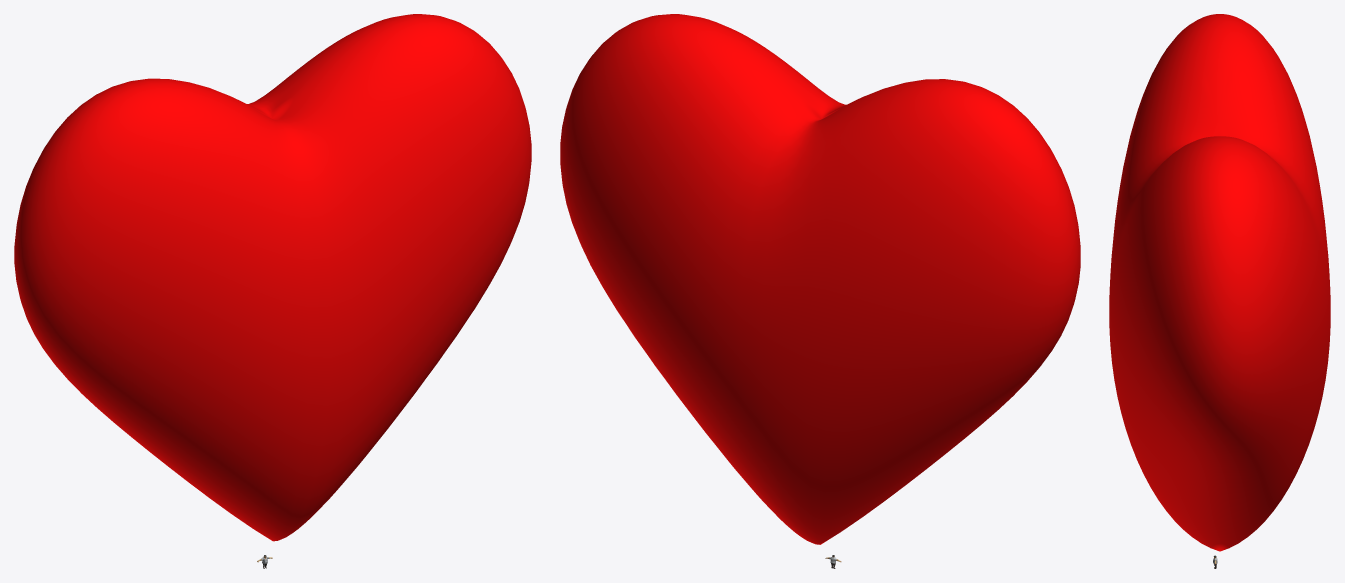
File: heart.FBX
The picture shows the model from 3 angles, left to right: view 1: azimuth 30°, elevation 25°; view 2: azimuth 150°, elevation 25°; view 3: azimuth 270°, elevation 25°; orthographic projection. The views are drawn at different scales.
Parts seen in each view (by area): view 1: Heart; view 2: Heart; view 3: Heart.
Part boxes in pixels (x1=…): Heart: x1=14, y1=14, x2=531, y2=541; Heart: x1=560, y1=14, x2=1080, y2=544; Heart: x1=1109, y1=14, x2=1330, y2=551.
Bounding box in the file's own units: 68.98 × 66.87 × 27.62.
